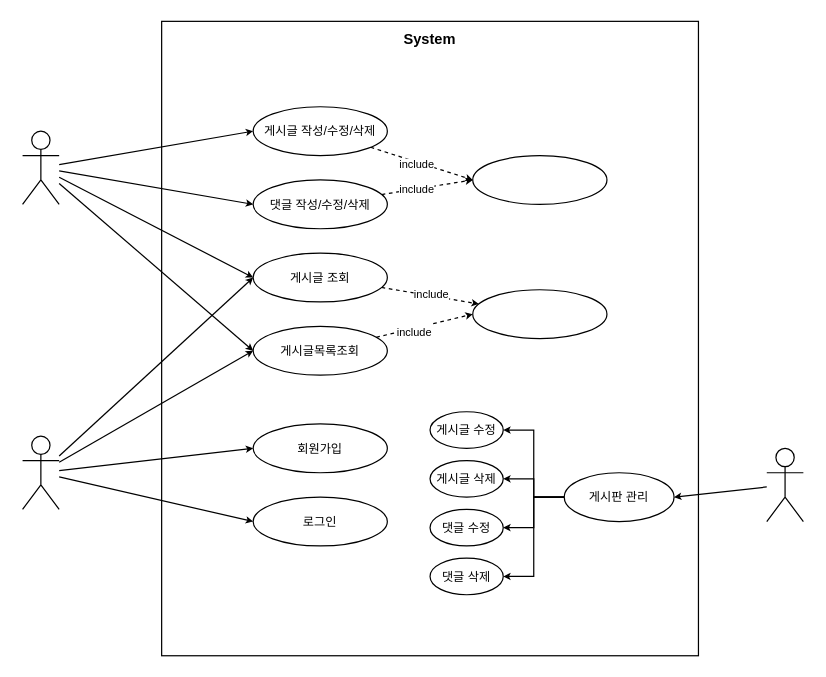
Image size: 826x677. Some labels were removed from this diagram. Here are the shapes that lost their labels. From the top down, the box of each, then its label:
(21, 130, 59, 204): 회원
(472, 154, 607, 204): 인증/인가
(472, 289, 607, 339): 댓글 조회
(21, 435, 59, 509): 비회원
(766, 447, 803, 522): 관리자
